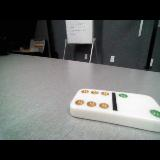domino: (70, 89, 159, 131)
